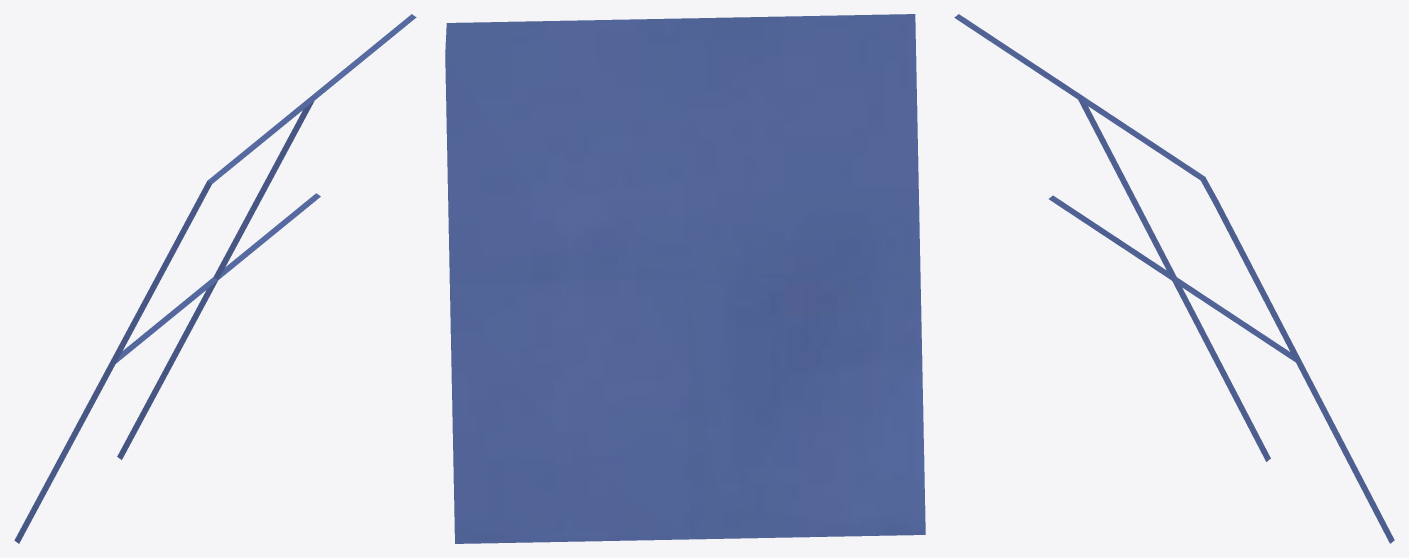
3 views of the same model, side by side, from view 1: azimuth 30°, elevation 25°; view 2: azimuth 150°, elevation 25°; view 3: azimuth 270°, elevation 25° (orthographic). The views are drawn at different scales.
Bounding box in the file's own units: 19627 × 17712 × 16998.
Materials: 1 (1 with a texture image).
